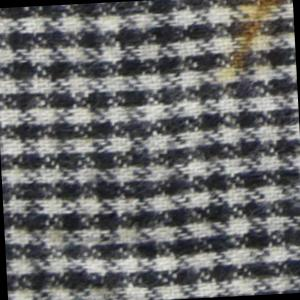Oil Stain: (209, 1, 297, 84)
